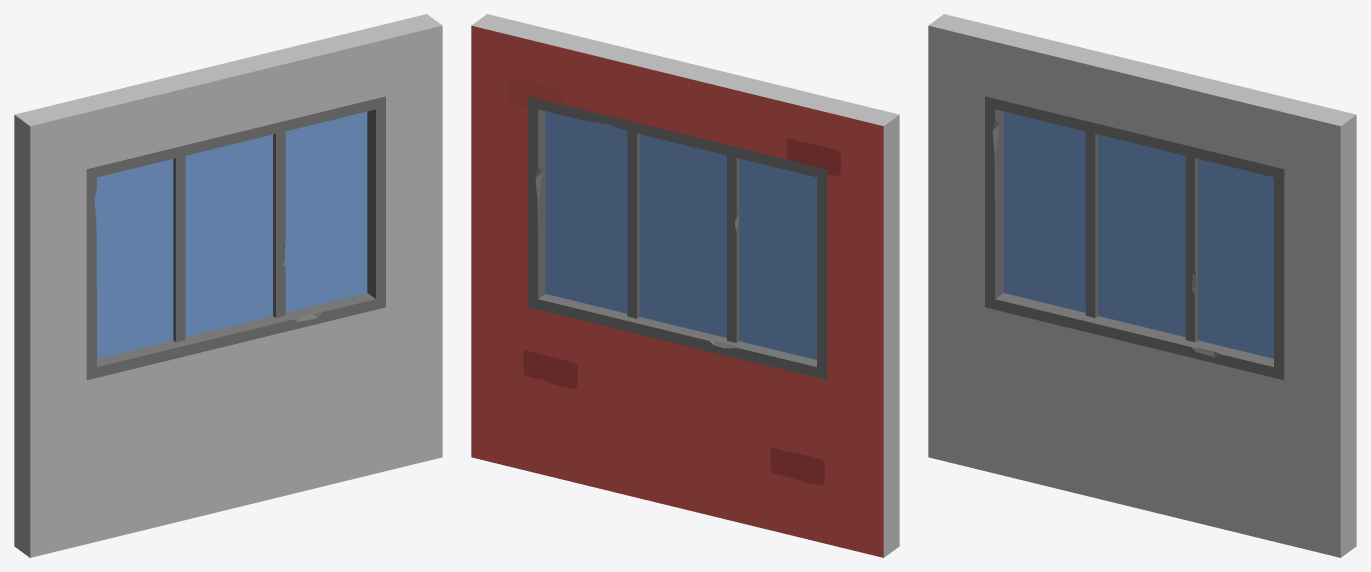
Rendered from Wh_Window_Regular.fbx.
The picture shows the model from 3 angles, left to right: view 1: azimuth 30°, elevation 25°; view 2: azimuth 150°, elevation 25°; view 3: azimuth 330°, elevation 25°; orthographic projection.
Visible parts, largest first — view 1: Cube.015, shard_03.003, shard_03.004, shard_03.002, shard_05.003, shard_06.003, shard_06.002, shard_05.004, shard_05.002, shard_02.003, shard_06.004, shard_02.004 (+13 smaller); view 2: Cube.015, shard_03.003, shard_03.004, shard_03.002, shard_05.003, shard_06.002, shard_06.003, shard_05.004, shard_05.002, shard_02.003, shard_06.004, shard_02.004 (+13 smaller); view 3: Cube.015, shard_03.003, shard_03.004, shard_03.002, shard_06.003, shard_06.002, shard_06.004, shard_05.003, shard_05.004, shard_08.003, shard_08.002, shard_08.004 (+13 smaller).
Part boxes in pixels (x1,y1,x2,y2): Cube.015: [14, 14, 442, 557]; shard_03.003: [204, 171, 272, 255]; shard_03.004: [110, 194, 173, 278]; shard_03.002: [304, 147, 367, 231]; shard_05.003: [217, 249, 272, 322]; shard_06.003: [185, 251, 232, 336]; shard_06.002: [285, 227, 332, 312]; shard_05.004: [123, 272, 173, 345]; shard_05.002: [317, 225, 367, 298]; shard_02.003: [216, 134, 272, 192]; shard_06.004: [97, 274, 138, 358]; shard_02.004: [121, 159, 173, 216]; Cube.015: [471, 14, 899, 557]; shard_03.003: [639, 172, 707, 256]; shard_03.004: [739, 195, 802, 279]; shard_03.002: [545, 147, 608, 232]; shard_05.003: [639, 250, 694, 323]; shard_06.002: [580, 227, 627, 313]; shard_06.003: [679, 252, 726, 337]; shard_05.004: [739, 273, 789, 346]; shard_05.002: [545, 226, 594, 299]; shard_02.003: [639, 134, 696, 192]; shard_06.004: [774, 275, 816, 359]; shard_02.004: [739, 158, 791, 217]; Cube.015: [928, 14, 1356, 557]; shard_03.003: [1120, 169, 1185, 264]; shard_03.004: [1025, 146, 1085, 241]; shard_03.002: [1219, 193, 1273, 288]; shard_06.003: [1098, 242, 1148, 319]; shard_06.002: [1198, 267, 1247, 344]; shard_06.004: [1004, 219, 1053, 296]; shard_05.003: [1133, 246, 1185, 337]; shard_05.004: [1039, 223, 1085, 312]; shard_08.003: [1098, 173, 1130, 276]; shard_08.002: [1198, 197, 1230, 300]; shard_08.004: [1004, 150, 1036, 253].
Bounding box in the file's own units: 300 × 300 × 20.
